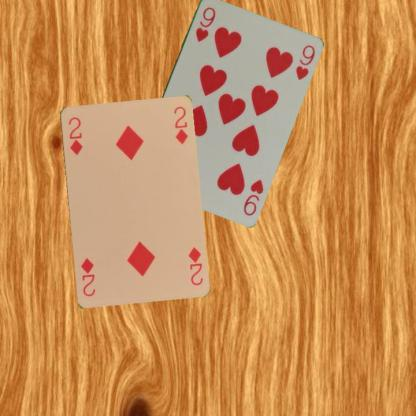2d: (65, 114, 84, 156), (185, 244, 204, 286)
9h: (192, 3, 217, 44), (240, 176, 265, 217)
